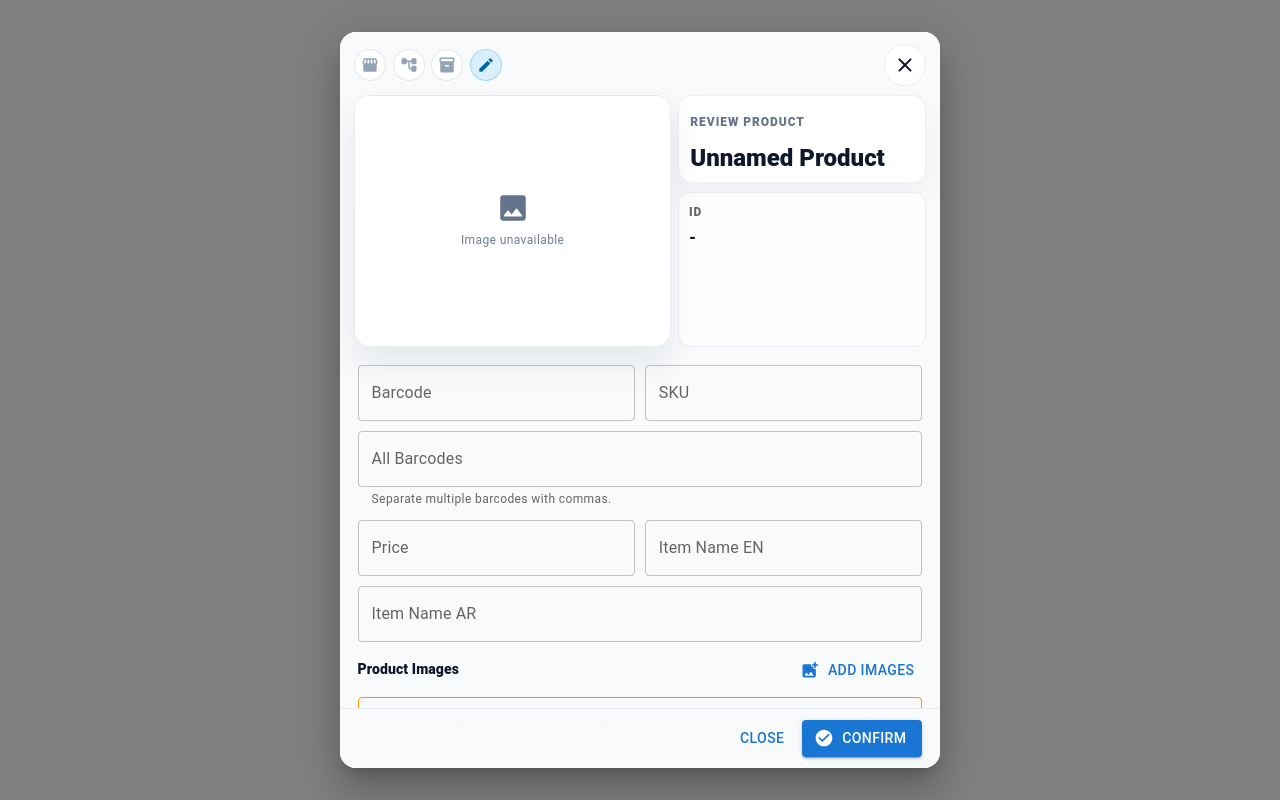
Test: ScanoTaskProductDialog › highlights required manual fields before confirm
Click the button "Confirm": (862, 739) [802,720,922,757]
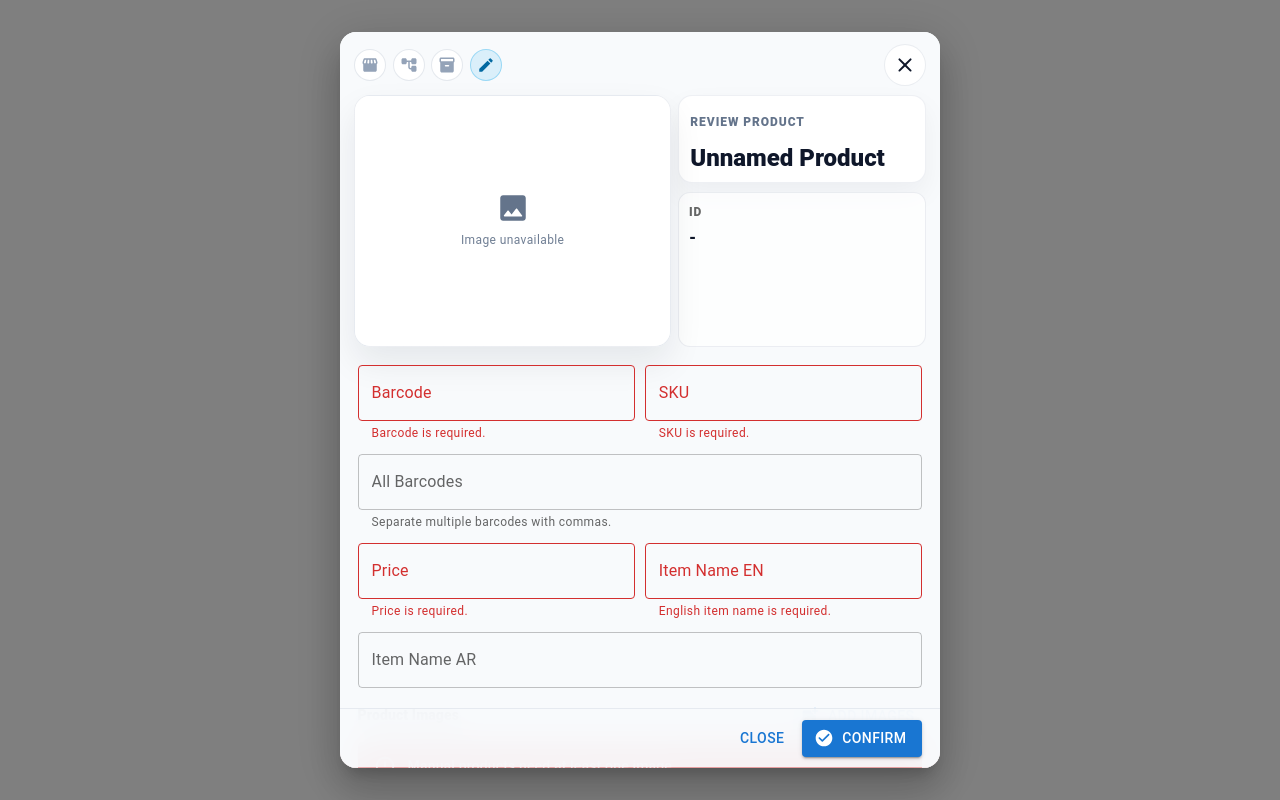
Expected: the text "Barcode is required." is shown, [372,426,486,440]
Expected: the text "SKU is required." is shown, [659,426,750,440]
Expected: the text "Price is required." is shown, [372,604,468,618]
